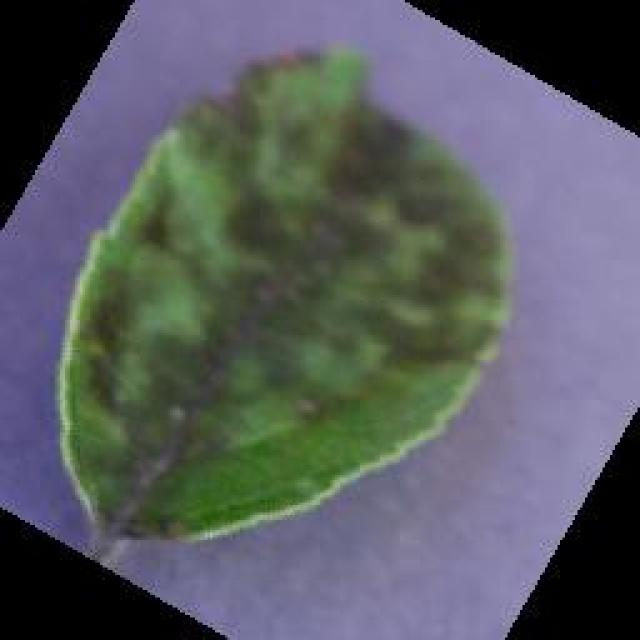apple scab disease: (53, 40, 515, 548)
